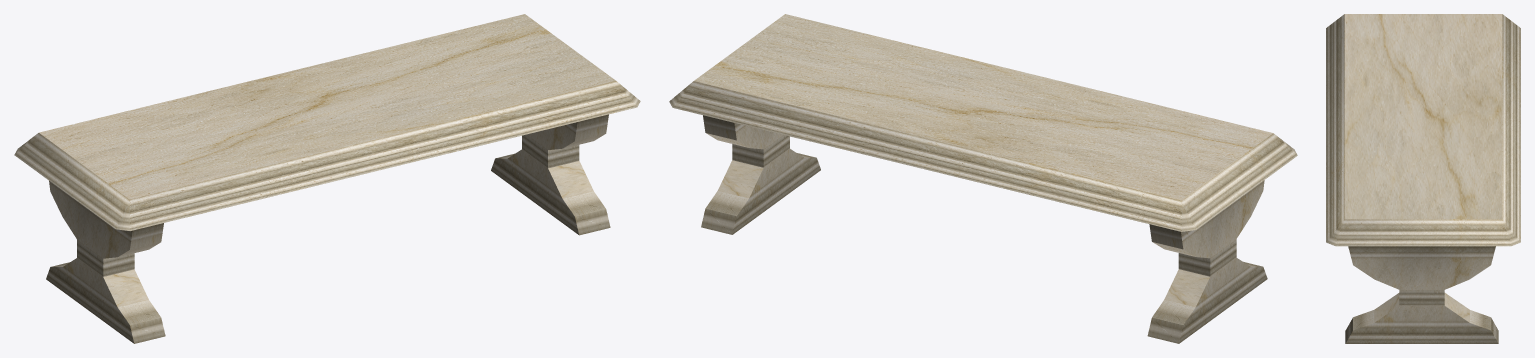
Rendered from mm9_deco_benchstone02.glb.
The picture shows the model from 3 angles, left to right: view 1: azimuth 30°, elevation 25°; view 2: azimuth 150°, elevation 25°; view 3: azimuth 270°, elevation 25°; orthographic projection. The views are drawn at different scales.
Visible parts, largest first — view 1: Benchstone02; view 2: Benchstone02; view 3: Benchstone02.
Boxes of the visible parts, x1,y1,x2,y2 form: Benchstone02: (14, 14, 640, 343); Benchstone02: (669, 14, 1297, 343); Benchstone02: (1326, 14, 1520, 343).
Bounding box in the file's own units: 2.61 × 0.6955 × 0.9696.
2 materials, 2 textured.
